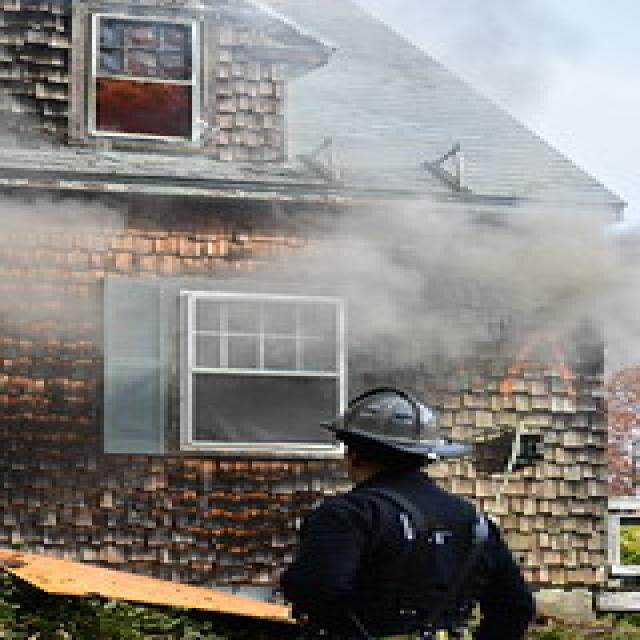smoke: (194, 212, 636, 355), (294, 2, 640, 178), (4, 199, 142, 356)
